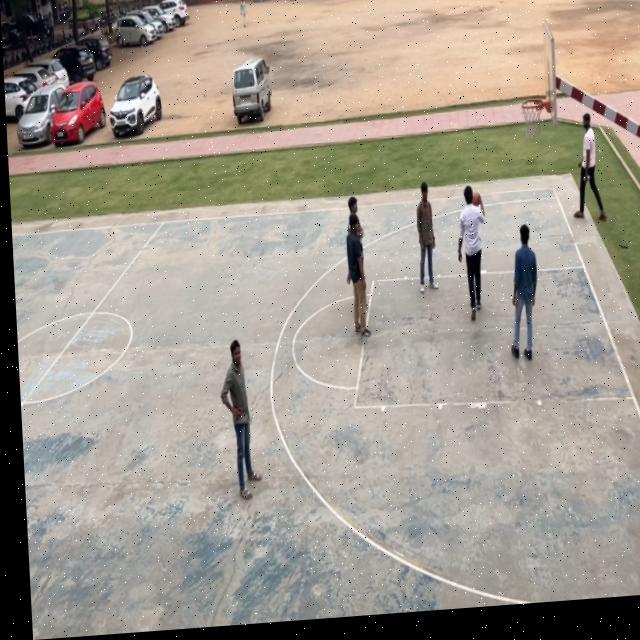basketball: (470, 191, 483, 210)
hoop: (520, 93, 545, 145)
